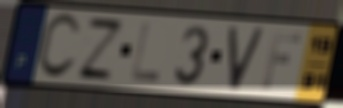3: (173, 24, 211, 88)
C: (34, 11, 83, 82)
F: (259, 29, 305, 92)
L: (128, 20, 163, 85)
V: (227, 25, 268, 93)
Z: (74, 15, 127, 83)
